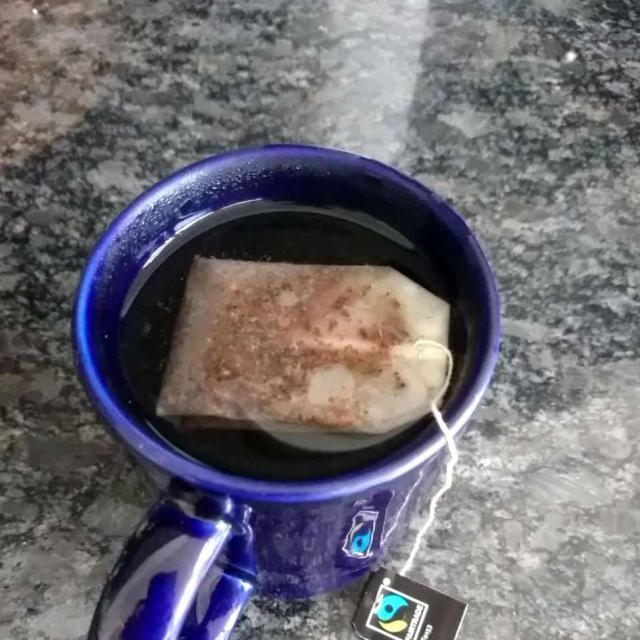tea: (130, 200, 479, 496)
